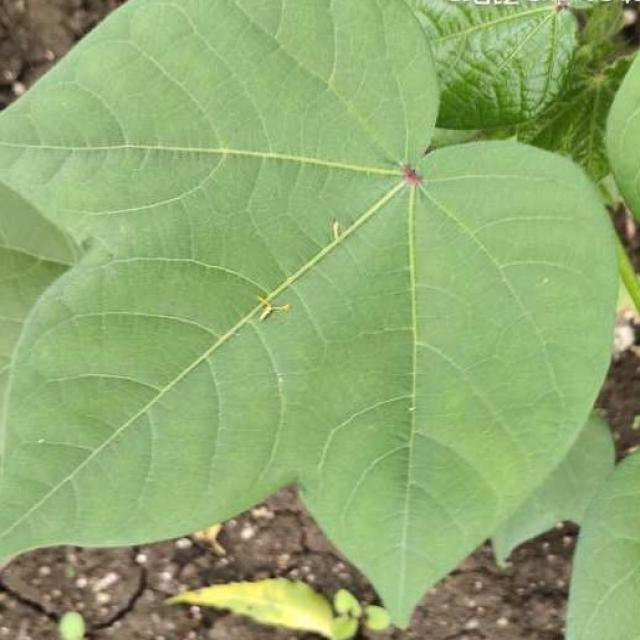Healthy Leaf: (82, 70, 514, 500)
